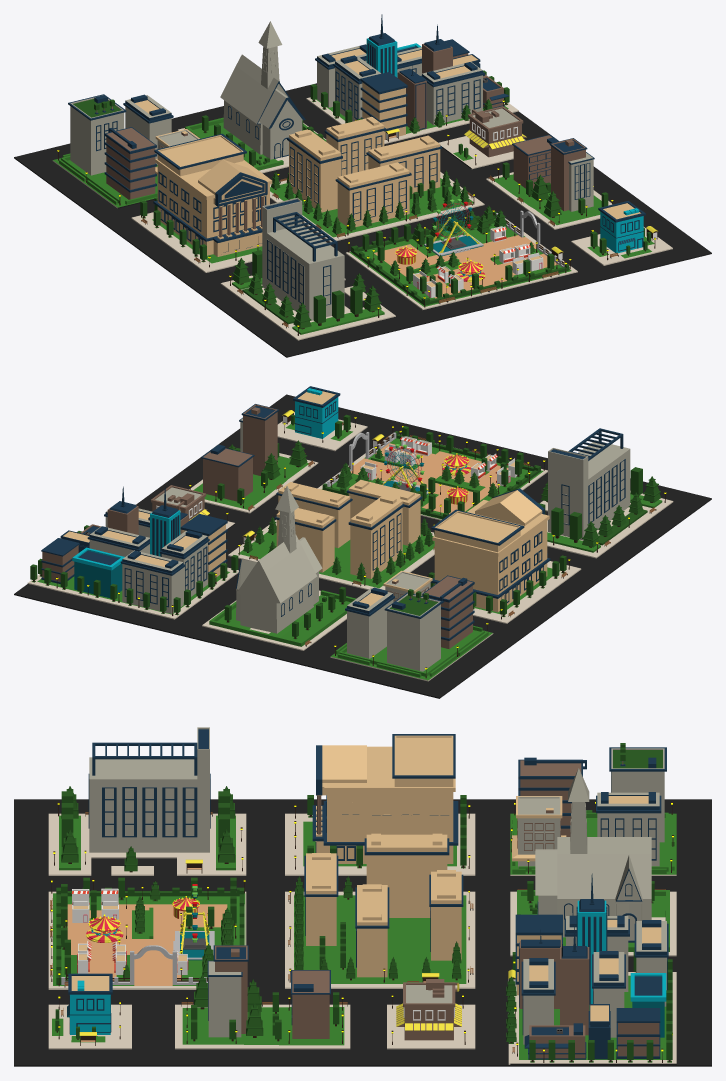
The model's file is map.glb.
The picture shows the model from 3 angles, top to bottom: view 1: azimuth 30°, elevation 25°; view 2: azimuth 150°, elevation 25°; view 3: azimuth 270°, elevation 25°; orthographic projection. The views are drawn at different scales.
Parts seen in each view (by area): view 1: wh, Cube.282, Cube.023, Cube.013, Cube.025, Cube.028, Cube.020, Cube.019, Cube.009, Cube.015, Cube.018, Cube.030 (+16 smaller); view 2: wh, Cube.282, Cube.013, Cube.023, Cube.020, Cube.028, Cube.012, Cube.011, Cube.019, Cube.008, Cube.015, Cube.025 (+14 smaller); view 3: wh, Cube.282, Cube.023, Cube.013, Cube.028, Cube.015, Cube.014, Cube.011, Cube.018, Cube.025, Cube.026, Cube.017 (+19 smaller).
Boxes of the visible parts, box(x1,y1,x2,y2) form: wh: box(14, 83, 711, 357); Cube.282: box(153, 133, 272, 256); Cube.023: box(262, 197, 344, 320); Cube.013: box(220, 21, 305, 159); Cube.025: box(335, 162, 411, 226); Cube.028: box(287, 129, 342, 212); Cube.020: box(68, 94, 126, 175); Cube.019: box(104, 127, 156, 199); Cube.009: box(420, 61, 484, 125); Cube.015: box(549, 138, 594, 211); Cube.018: box(366, 135, 442, 193); Cube.030: box(351, 210, 569, 305); wh: box(14, 394, 711, 698); Cube.282: box(430, 488, 550, 612); Cube.013: box(236, 486, 322, 633); Cube.023: box(548, 428, 630, 540); Cube.020: box(384, 589, 442, 671); Cube.028: box(348, 495, 404, 578); Cube.012: box(120, 550, 185, 613); Cube.011: box(345, 587, 394, 658); Cube.019: box(422, 575, 474, 648); Cube.008: box(201, 444, 254, 501); Cube.015: box(239, 404, 278, 475); Cube.025: box(346, 479, 422, 545); wh: box(14, 799, 711, 1066); Cube.282: box(312, 734, 458, 863); Cube.023: box(88, 727, 210, 852); Cube.013: box(535, 768, 651, 942); Cube.028: box(364, 833, 449, 917); Cube.015: box(207, 945, 248, 1037); Cube.014: box(396, 979, 461, 1040); Cube.011: box(596, 792, 661, 866); Cube.018: box(355, 884, 389, 977); Cube.025: box(304, 853, 338, 945); Cube.026: box(429, 870, 463, 960); Cube.017: box(512, 796, 566, 868).
Size of the model in its own units: 202 by 59.56 by 224.
